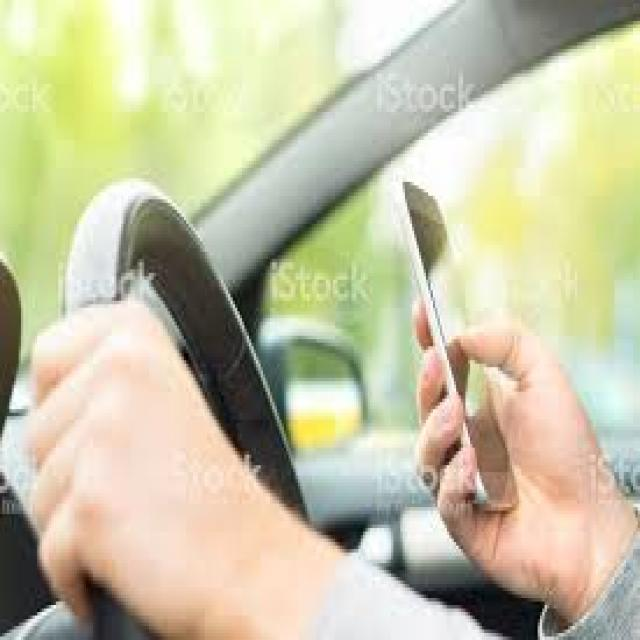Cellphone_texting: (391, 172, 598, 602)
